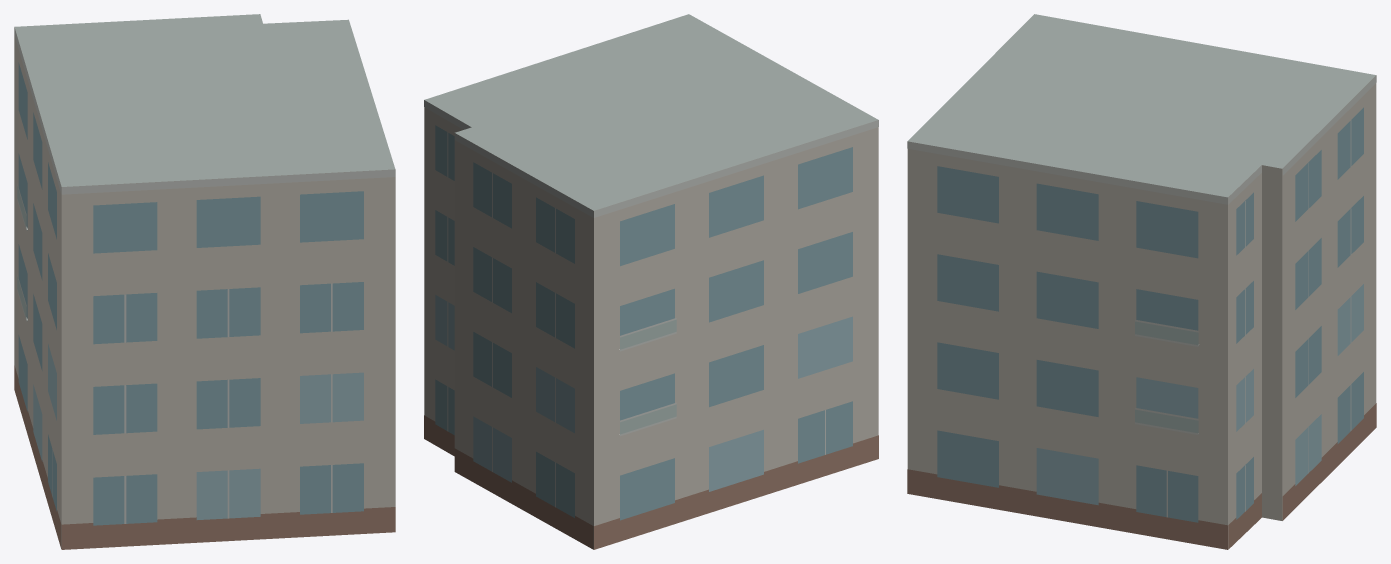
Rendered from survey-upis-32533447.glb.
3 renders of one model, left to right at view 1: azimuth 30°, elevation 25°; view 2: azimuth 150°, elevation 25°; view 3: azimuth 270°, elevation 25°, orthographic. The views are drawn at different scales.
Visible parts, largest first — view 1: survey-upis-32533447.tmp; view 2: survey-upis-32533447.tmp; view 3: survey-upis-32533447.tmp.
Part boxes in pixels (left/top/right/bottom): survey-upis-32533447.tmp: left=14, top=14, right=395, bottom=549; survey-upis-32533447.tmp: left=424, top=14, right=878, bottom=549; survey-upis-32533447.tmp: left=907, top=14, right=1376, bottom=549.
Size of the model in its own units: 12.96 by 11.6 by 14.
